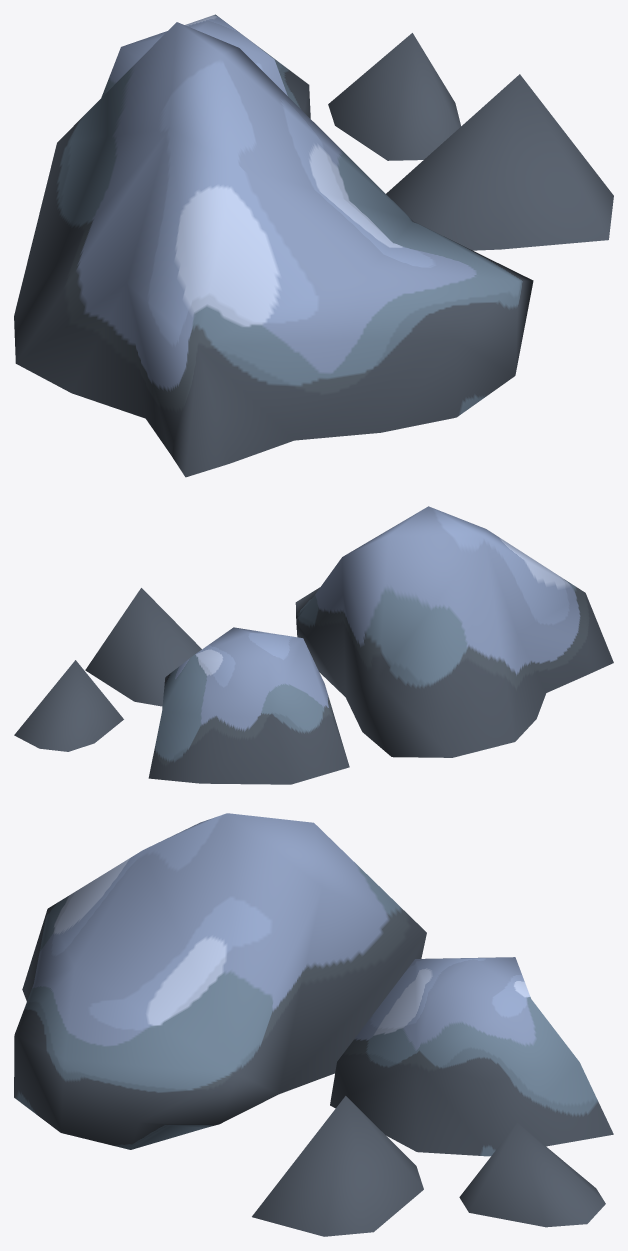
File: Rock 3x 3 3_preview_3DS_simplified.glb
3 renders of one model, top to bottom at view 1: azimuth 30°, elevation 25°; view 2: azimuth 150°, elevation 25°; view 3: azimuth 270°, elevation 25°, orthographic. The views are drawn at different scales.
Visible parts, largest first — view 1: Marine Park Empire model; view 2: Marine Park Empire model; view 3: Marine Park Empire model.
Part boxes in pixels (box(x1,y1,x2,y2)): Marine Park Empire model: box(14, 14, 613, 477); Marine Park Empire model: box(14, 506, 613, 784); Marine Park Empire model: box(14, 813, 613, 1236).
Bounding box in the file's own units: 92.26 × 41.88 × 93.81.
1 material, 1 textured.
